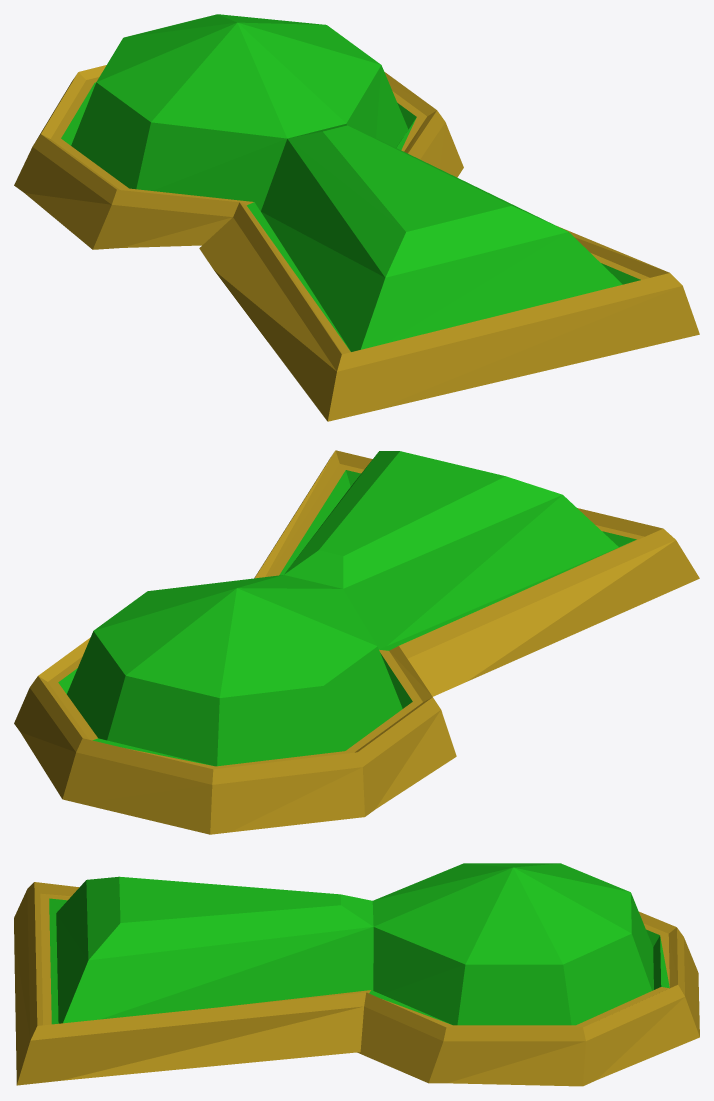
The model's file is Key Hole.obj.
The picture shows the model from 3 angles, top to bottom: view 1: azimuth 30°, elevation 25°; view 2: azimuth 150°, elevation 25°; view 3: azimuth 270°, elevation 25°; orthographic projection. The views are drawn at different scales.
Visible parts, largest first — view 1: Keyhole_Pi_Keyhole_Pi, BottomKey_BottomKey; view 2: Keyhole_Pi_Keyhole_Pi, BottomKey_BottomKey; view 3: Keyhole_Pi_Keyhole_Pi, BottomKey_BottomKey.
Boxes of the visible parts, box(x1,y1,x2,y2) form: Keyhole_Pi_Keyhole_Pi: box(61, 14, 640, 351); BottomKey_BottomKey: box(14, 65, 699, 421); Keyhole_Pi_Keyhole_Pi: box(58, 451, 636, 766); BottomKey_BottomKey: box(14, 450, 699, 834); Keyhole_Pi_Keyhole_Pi: box(49, 863, 669, 1025); BottomKey_BottomKey: box(14, 882, 699, 1086).
Size of the model in its own units: 6.48 by 2.56 by 11.47.
